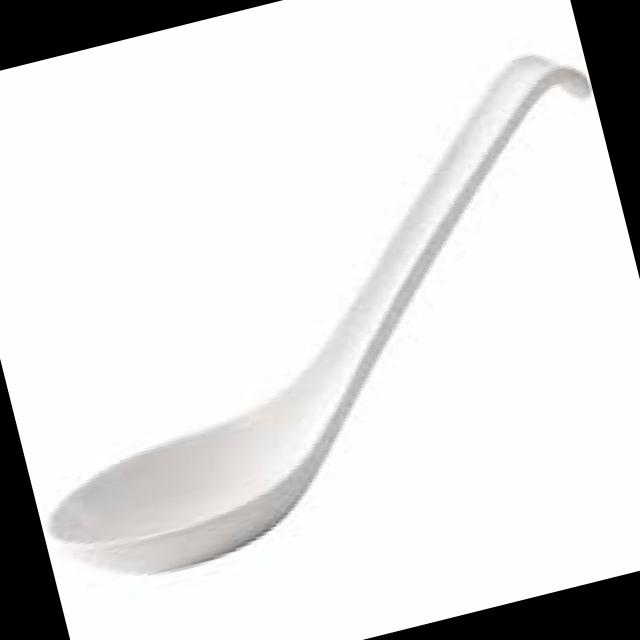spoon: (0, 8, 640, 625)
